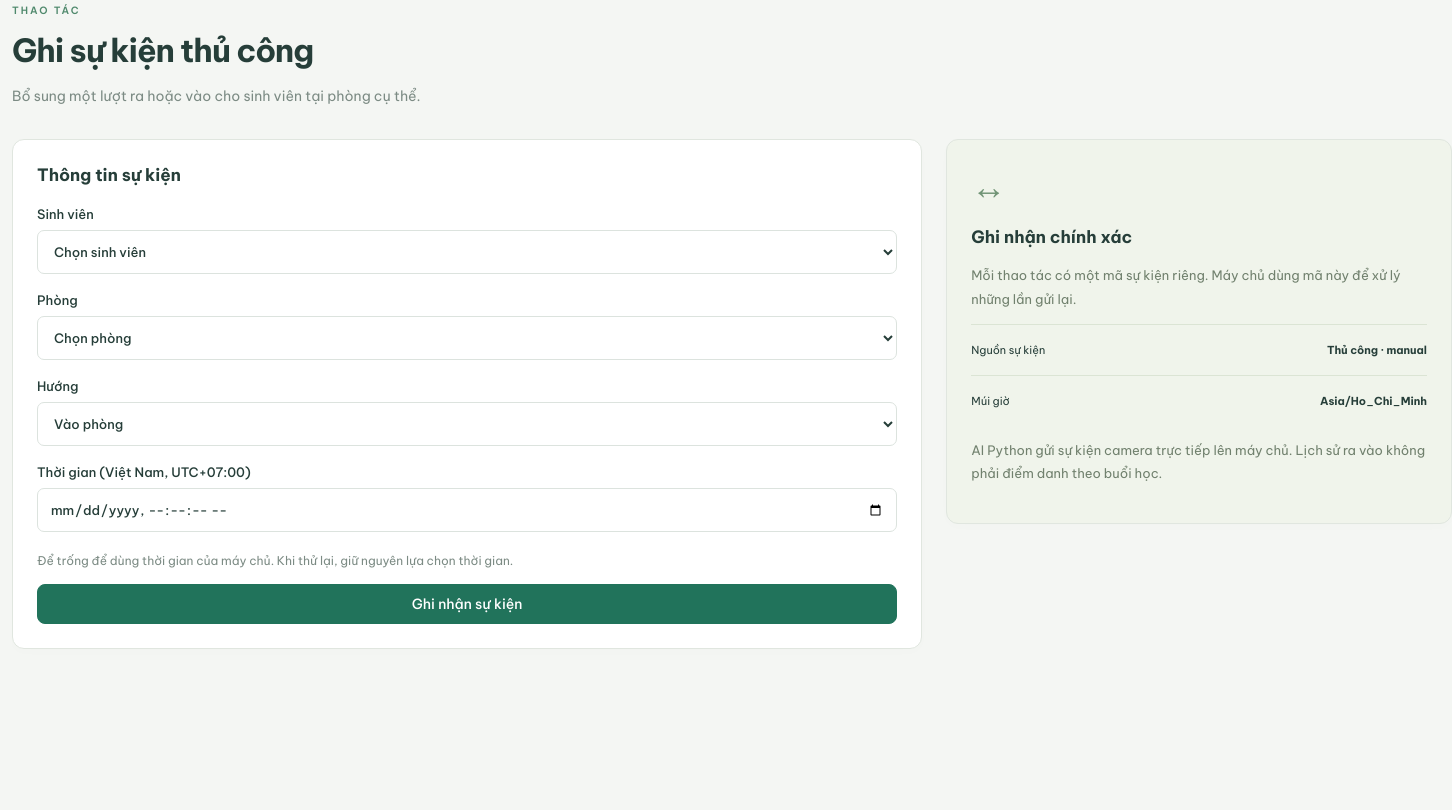
Test case: Dữ liệu và ghi sự kiện › 201 created báo thành công sau phản hồi BE
Step 1. Select "SV007 · Sinh viên kiểm thử" in the dropdown labelled "Sinh viên" → [467, 252], box [37,230,897,274]
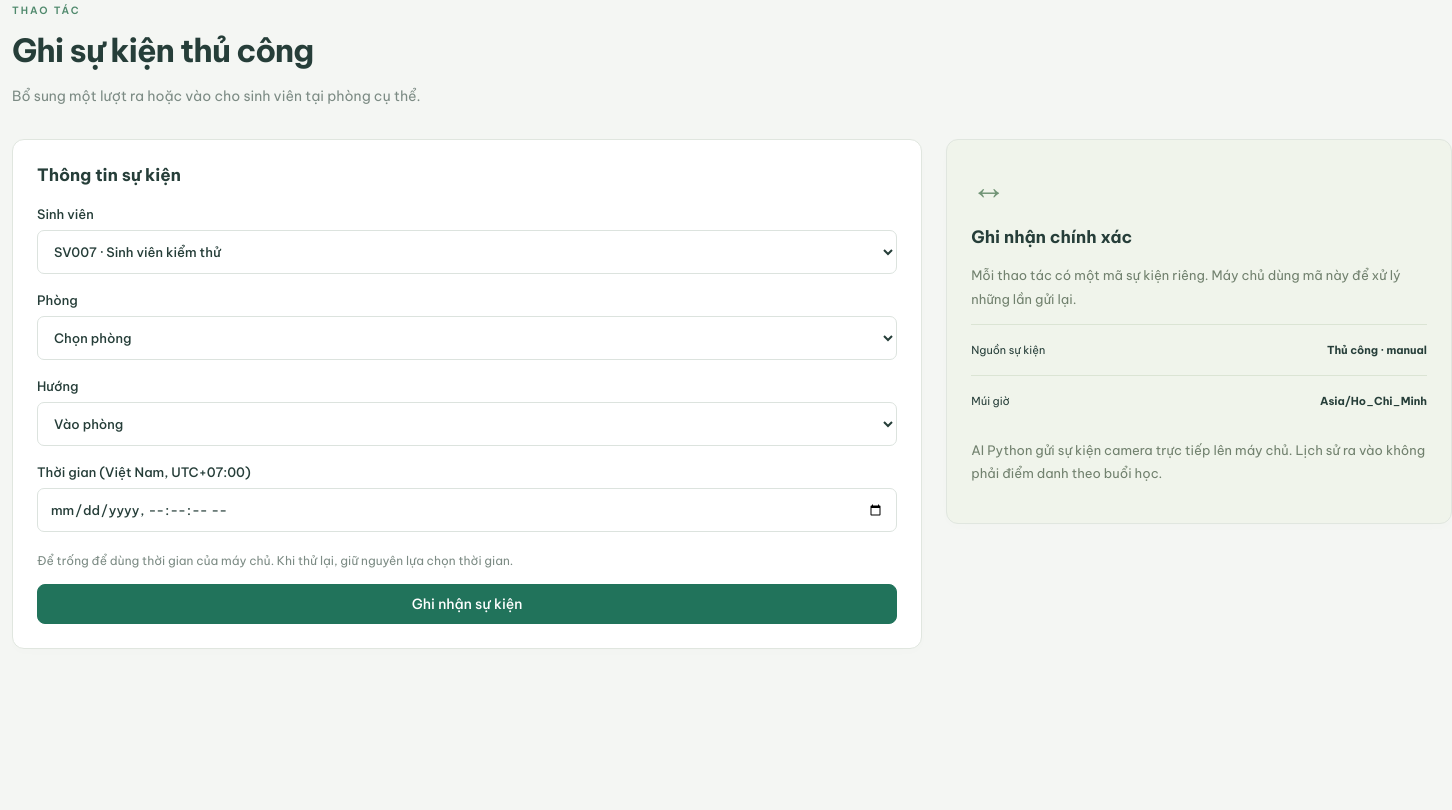
Step 2. Select "R3 · Phòng kiểm thử" in the dropdown labelled "Phòng" → [467, 338], box [37,316,897,360]
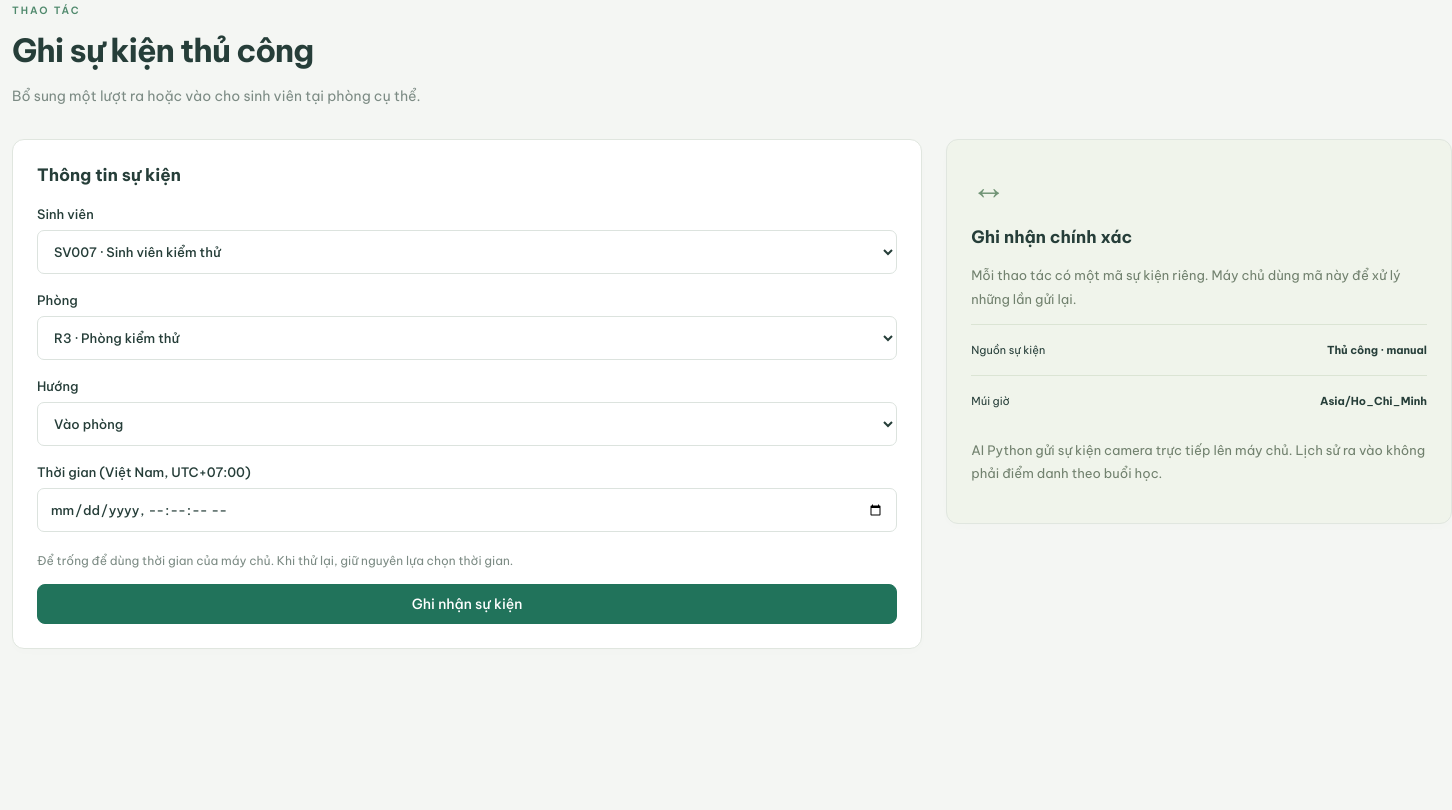
Step 3. Click the button "Ghi nhận sự kiện" → [467, 604], box [37,584,897,624]
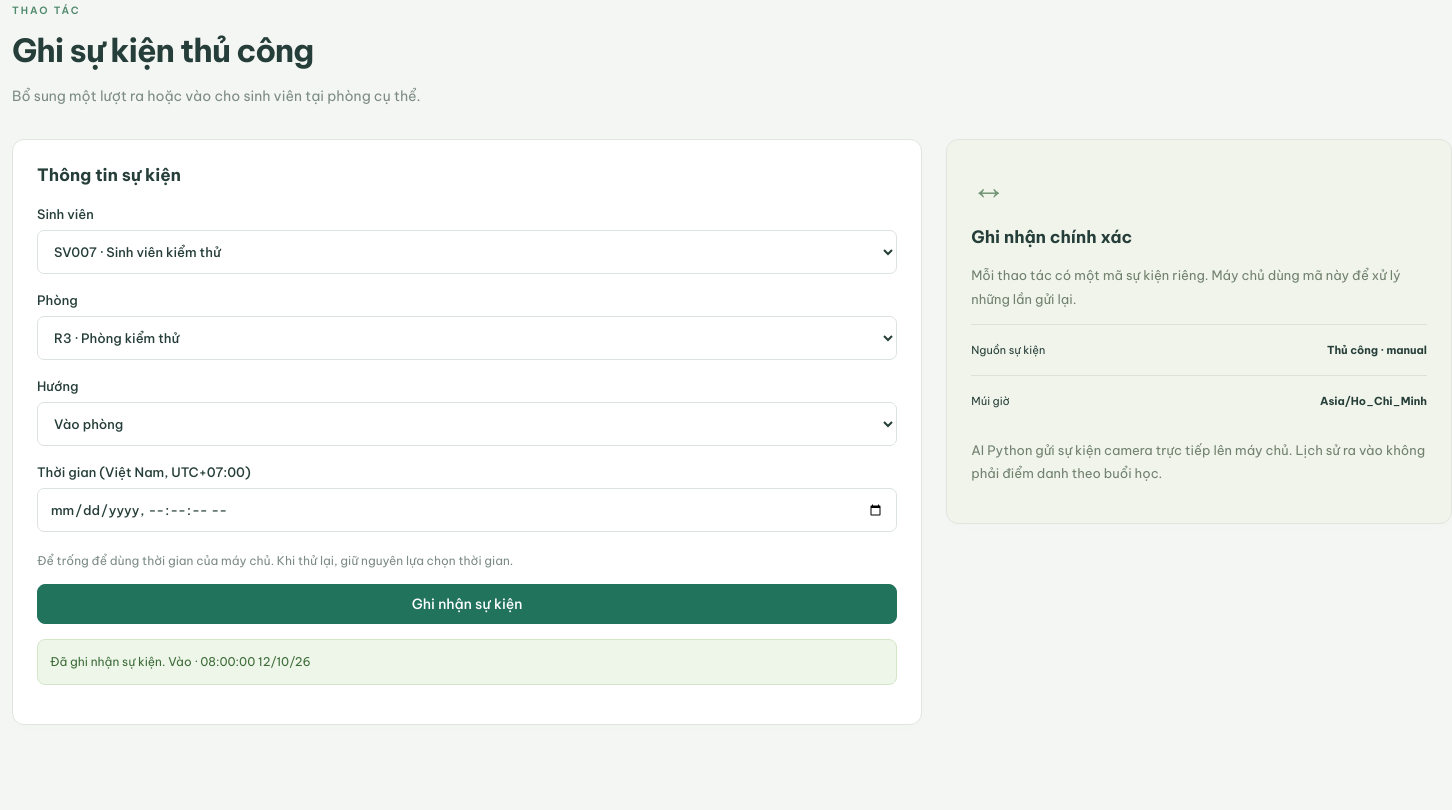
Check: the text "Đã ghi nhận sự kiện. Vào · 08:00:00 12/10/26" is shown, box [37,639,897,685]
